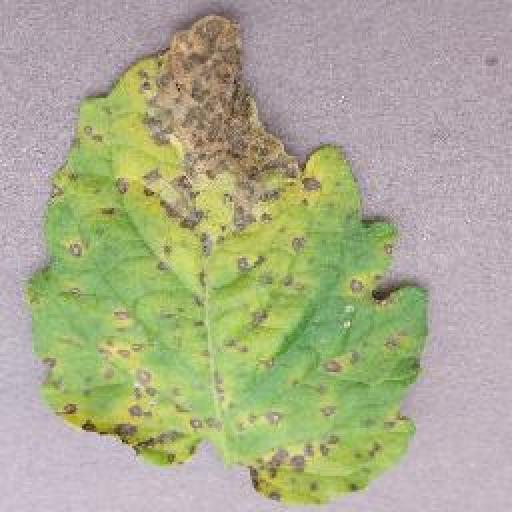Septoria: (28, 13, 431, 511)
